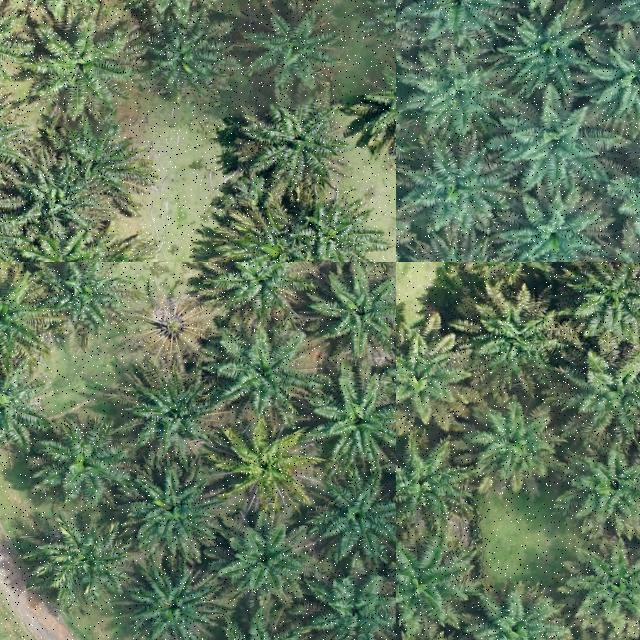Ganoderma: (230, 434, 306, 496), (138, 296, 203, 351)
